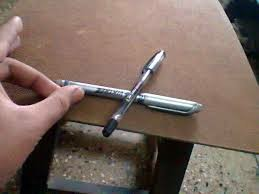pen: (102, 49, 162, 139), (141, 89, 204, 117), (57, 79, 126, 98)
